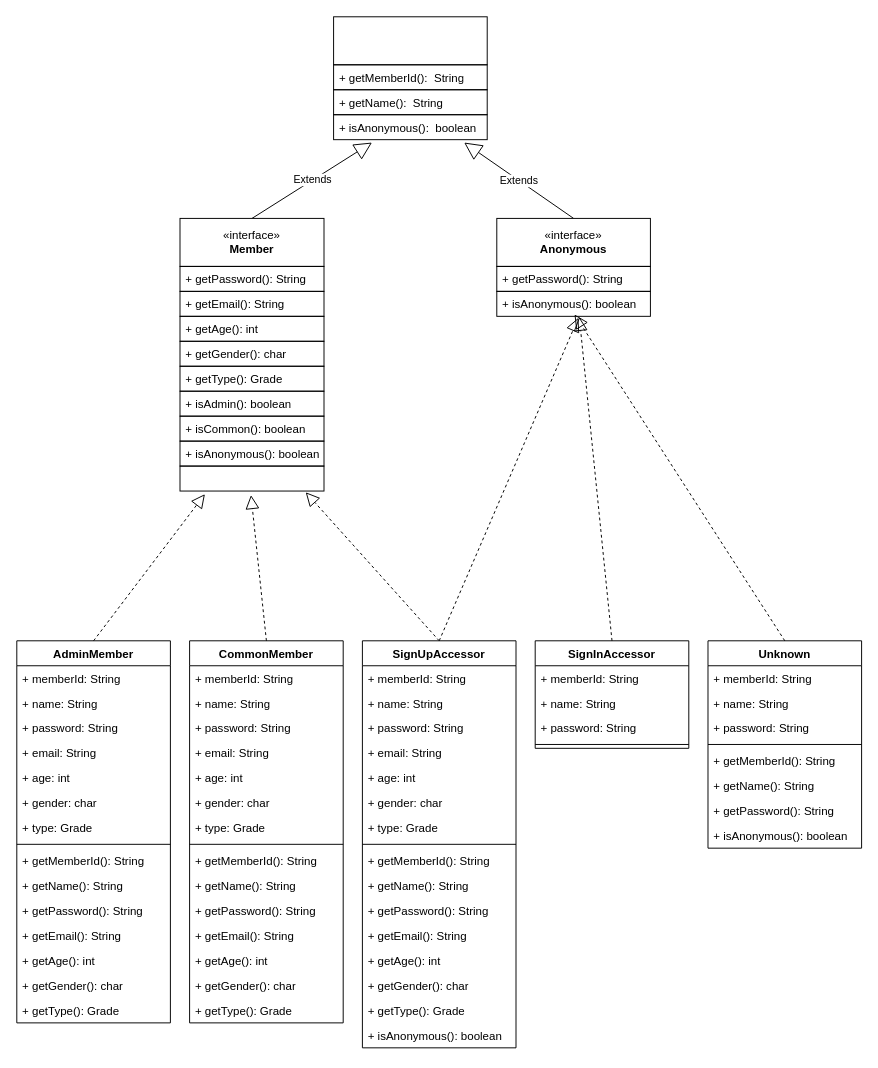
Some shapes in this 878 by 1068 pixel diagram are drawn without their labels. The shapes that lost their labels are listed below. From the top down, each one's centre as x and y in pixels, then its label:
At point 410,40: "<<interface>> User".
At point 251,478: "+ hashPassword(): void".
